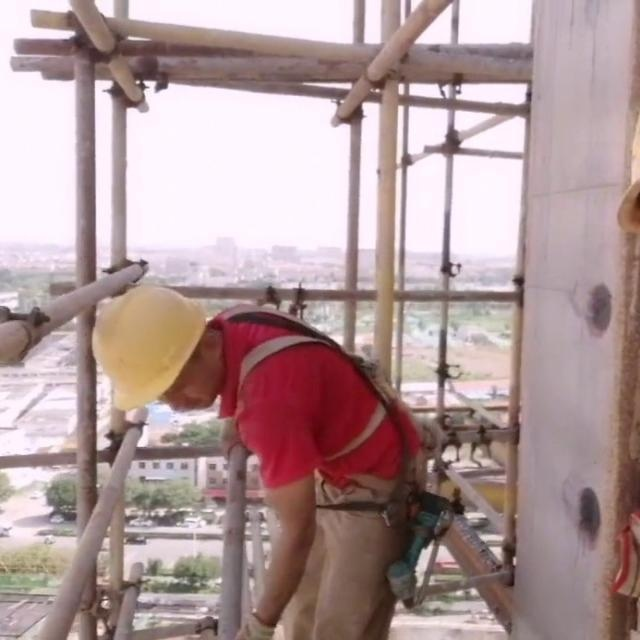Arnes_seguridad: (209, 299, 409, 466)
